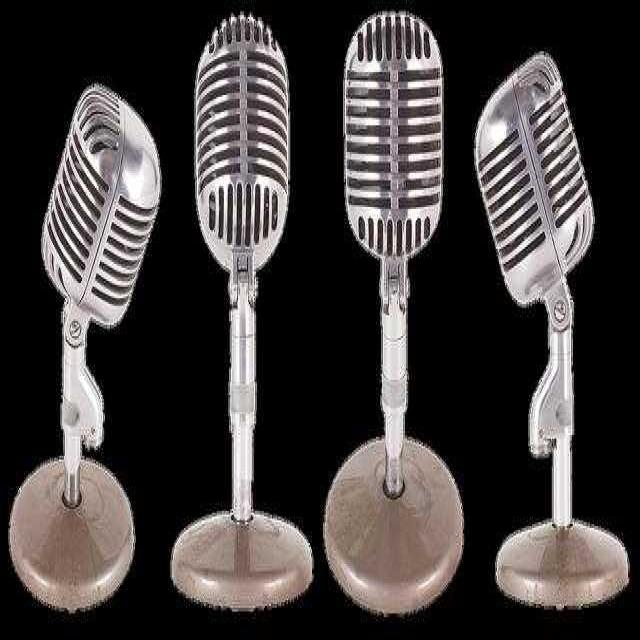microphone: (473, 52, 595, 318), (40, 82, 161, 334), (342, 13, 444, 274), (194, 12, 290, 280)
